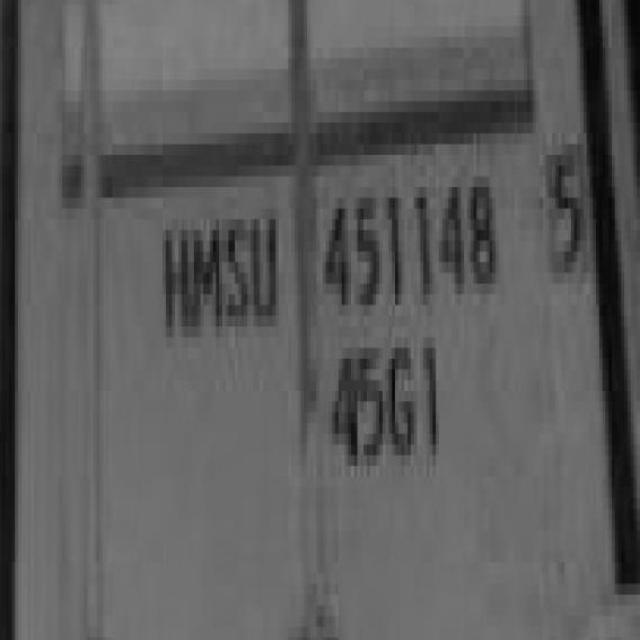dv: (538, 141, 590, 282)
owner: (154, 190, 286, 344)
serial: (316, 170, 511, 312)
size: (327, 336, 450, 471)
